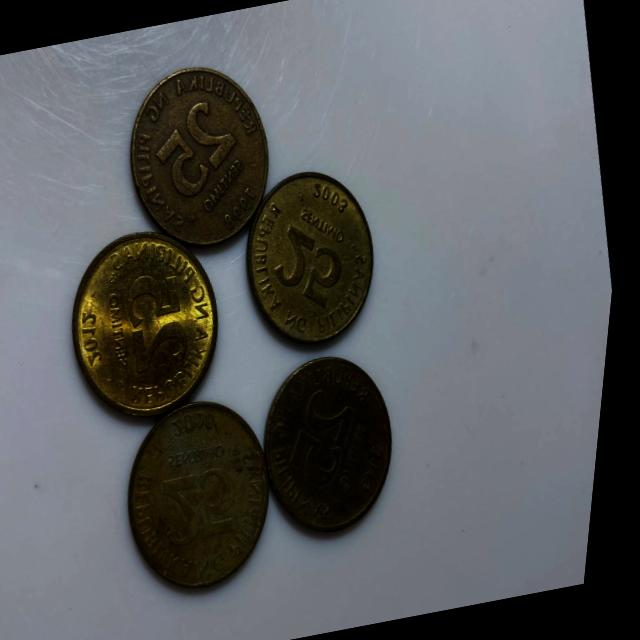25Cent_Old_Front: (120, 264, 208, 384), (147, 98, 250, 200), (264, 213, 360, 316), (285, 384, 376, 492), (161, 464, 255, 560)
